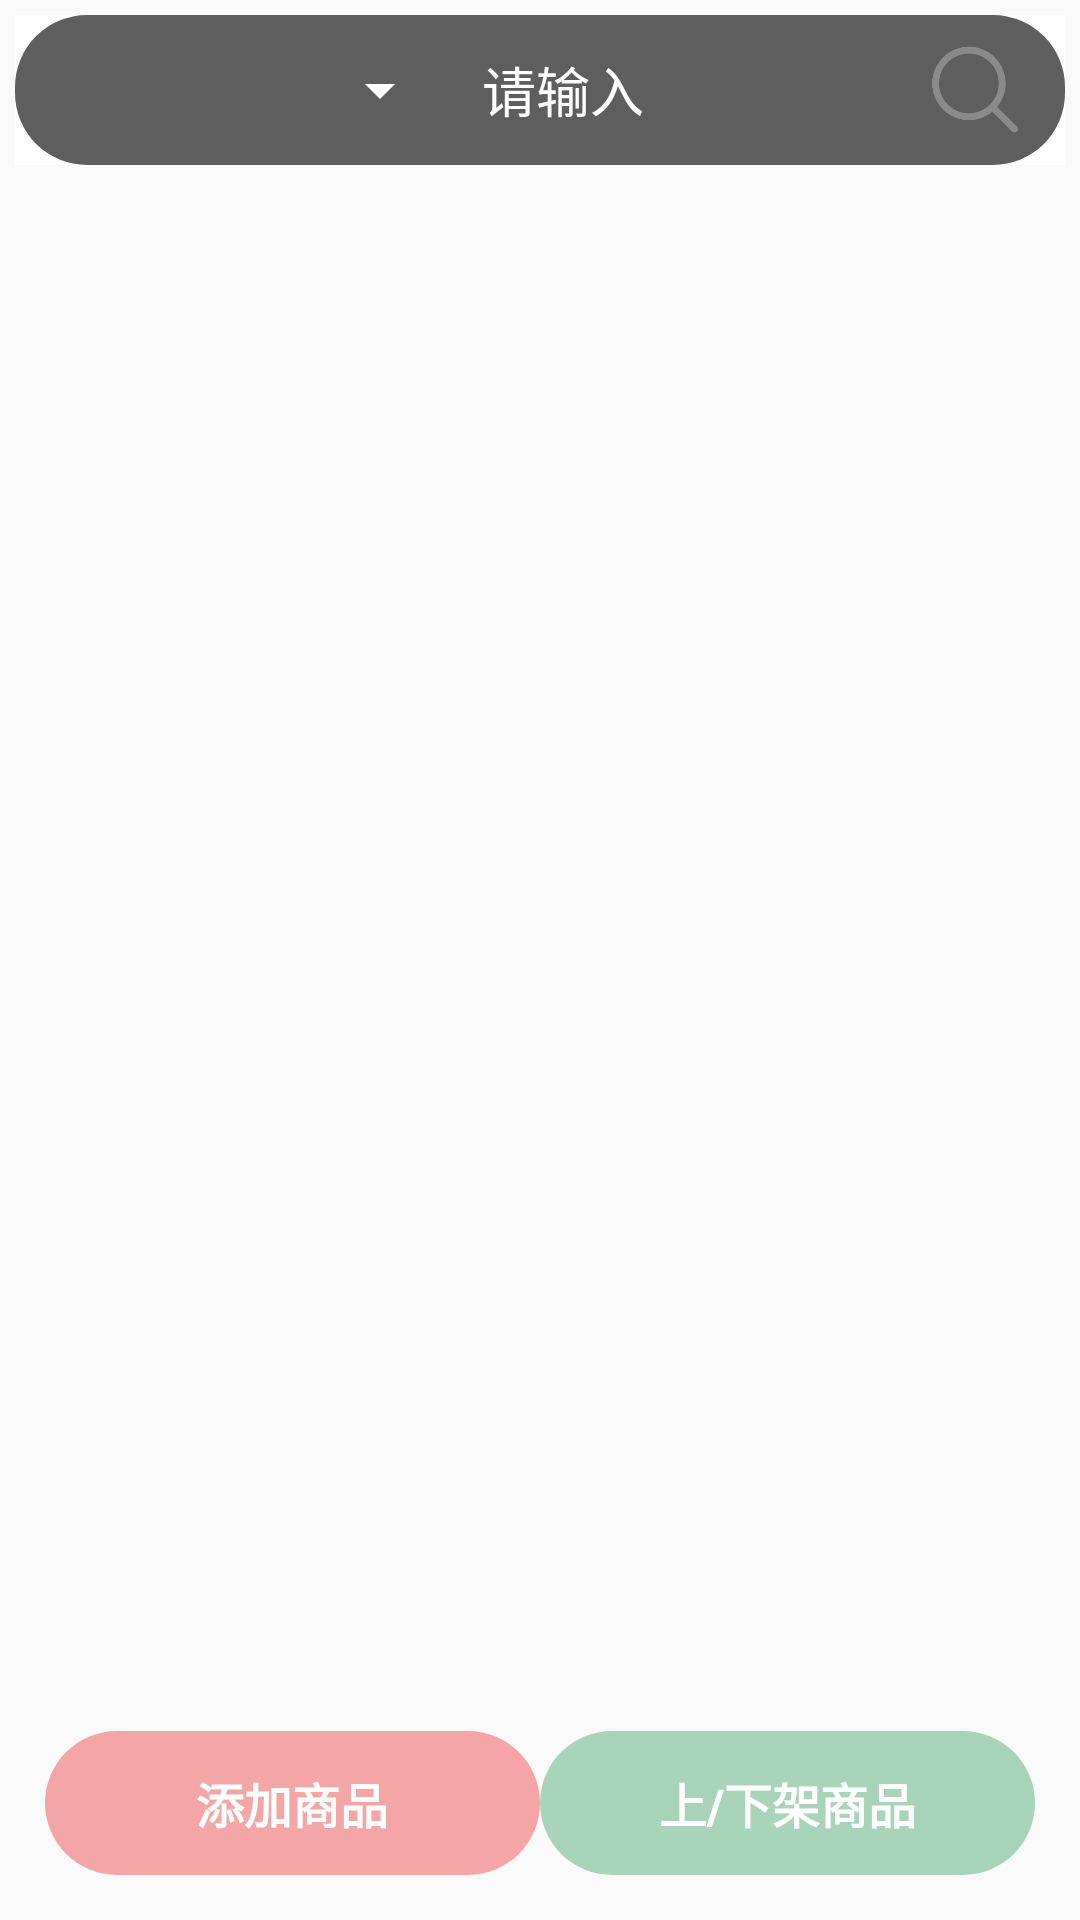

Where icons sit on this 1080*1920 app screen, as (x1, y1, x2, y2):
search: (932, 47, 1018, 132)
